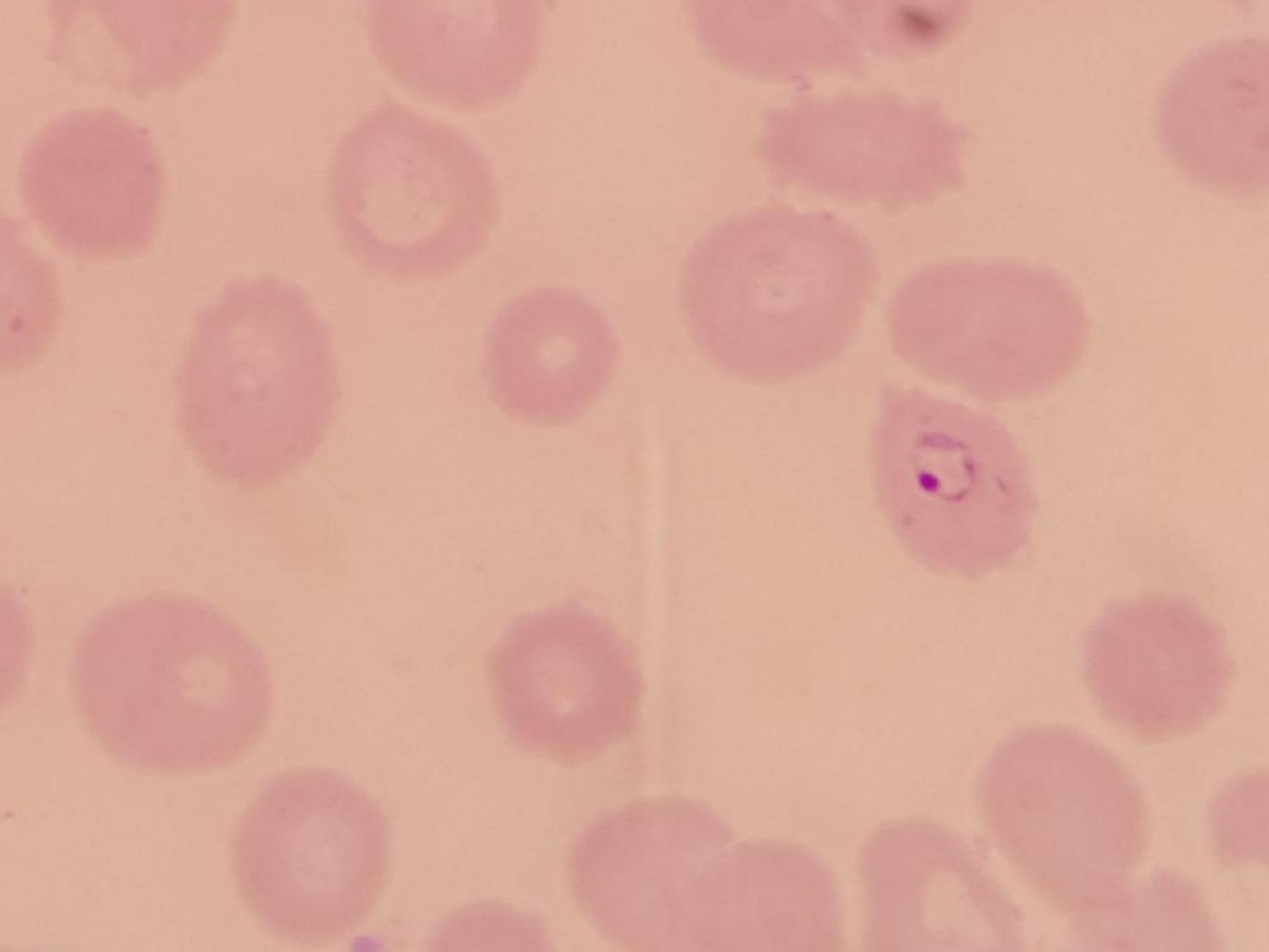Infected: (871, 400, 1038, 579)
Uninfected: (68, 593, 273, 774), (679, 217, 876, 384), (177, 281, 335, 483), (980, 724, 1152, 903), (886, 256, 1090, 400), (322, 109, 491, 280), (230, 767, 392, 938), (752, 85, 966, 213), (570, 798, 745, 946), (486, 603, 638, 761), (21, 104, 166, 260), (1081, 593, 1233, 737), (484, 283, 618, 429), (869, 828, 1017, 952), (365, 0, 532, 107)
